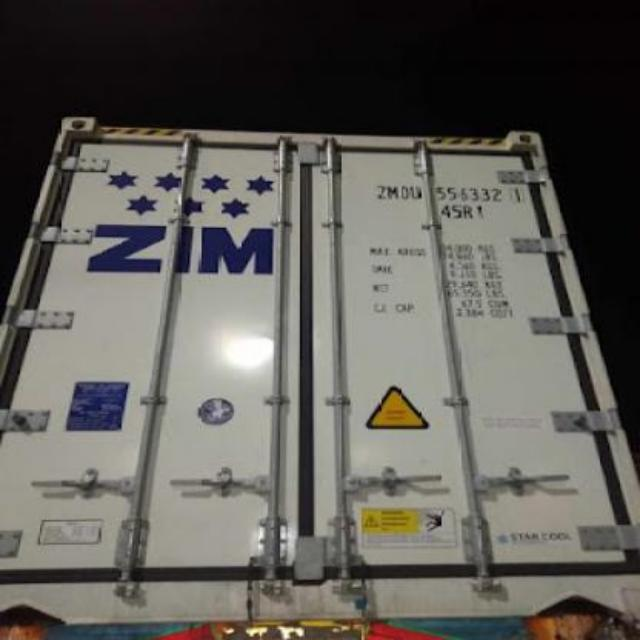1: (512, 186, 524, 204)
2: (492, 188, 504, 204)
3: (468, 187, 482, 203), (481, 186, 494, 202)
5: (434, 184, 448, 200), (448, 187, 458, 203)
6: (458, 186, 468, 202)
M: (386, 184, 399, 200)
O: (398, 186, 412, 200)
U: (408, 186, 422, 200)
Z: (374, 183, 386, 201)
